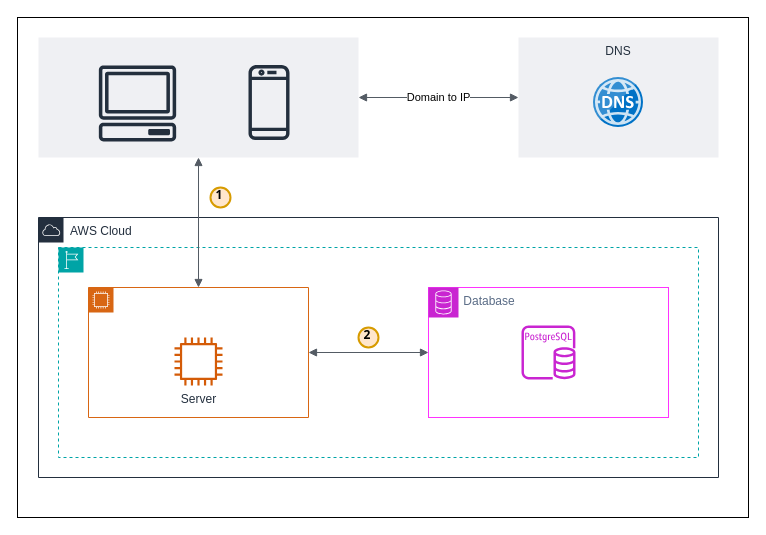
Some shapes in this 766 by 535 pixel diagram are drawn without their labels. The shapes that lost their labels are listed below. From the top down, each one's box as (x1, y1, x2, y2) in pixels, then its label:
(38, 37, 358, 157): User Client
(88, 286, 308, 418): EC2 instance contents
(58, 246, 698, 458): Region
